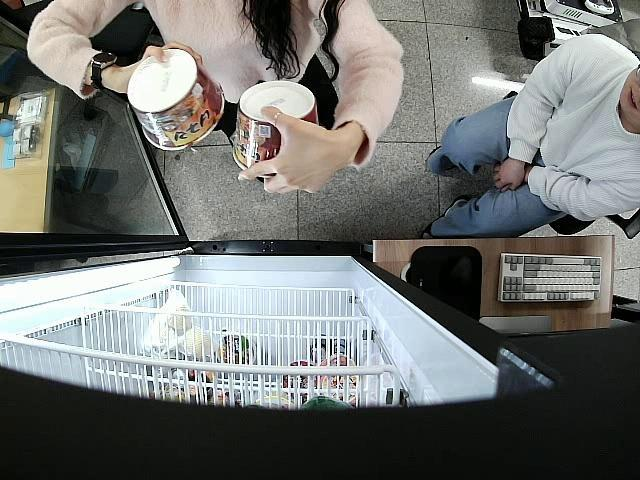05_nuguri_L: (126, 49, 225, 152), (232, 78, 321, 178)
